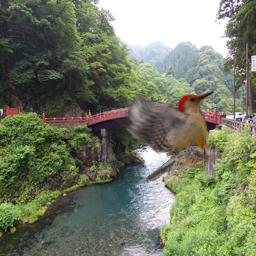Woodpecker: (111, 89, 215, 181)
